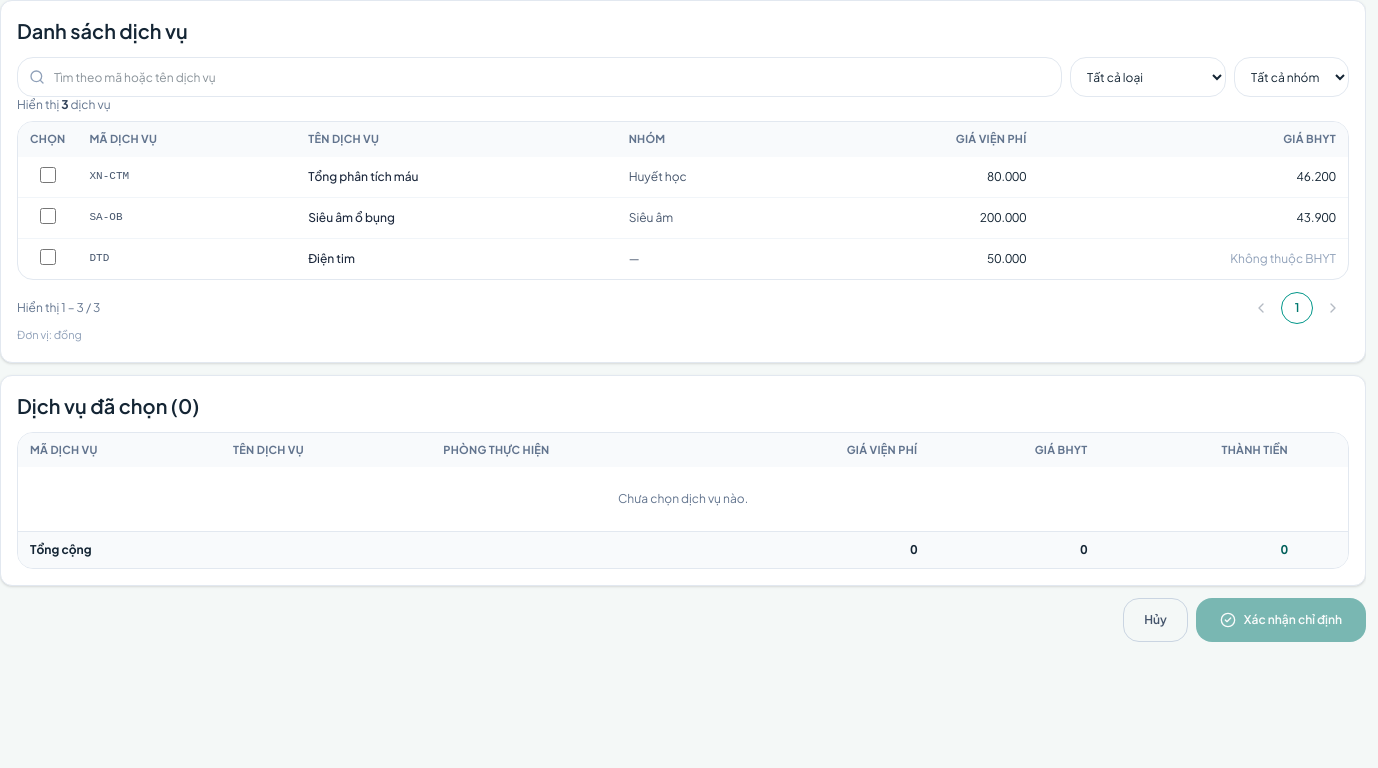
Test: ParaclinicalOrderPanel (UC-49) › asks for another room when the chosen one was deactivated (MSG40)
Click the checkbox named "Chọn Siêu âm ổ bụng".
click(48, 216)  # box [40, 208, 56, 224]
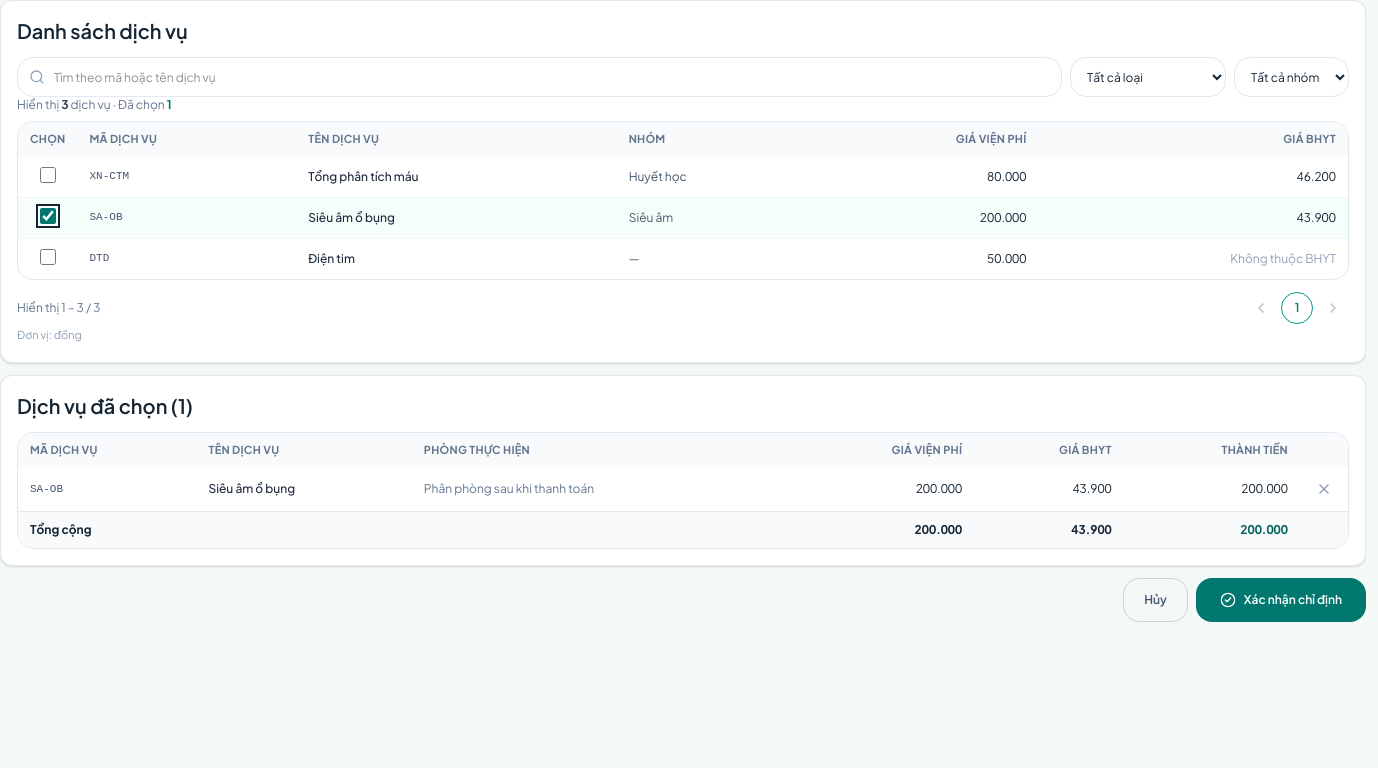
Click the button "Xác nhận chỉ định".
click(1281, 600)  # box [1196, 578, 1366, 622]
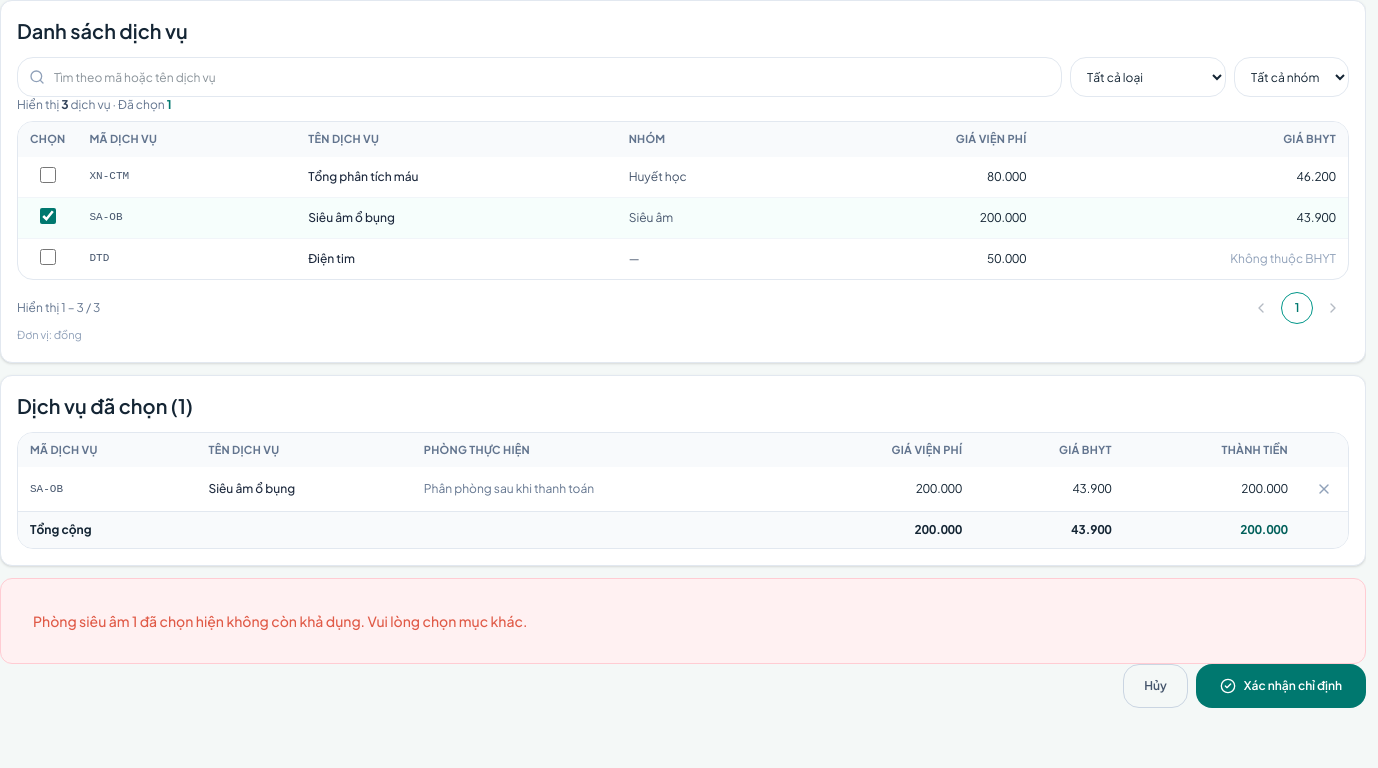
Now the message reads "Phòng siêu âm 1 đã chọn hiện không còn khả dụng. Vui lòng chọn mục khác.", box [33, 612, 527, 630]
